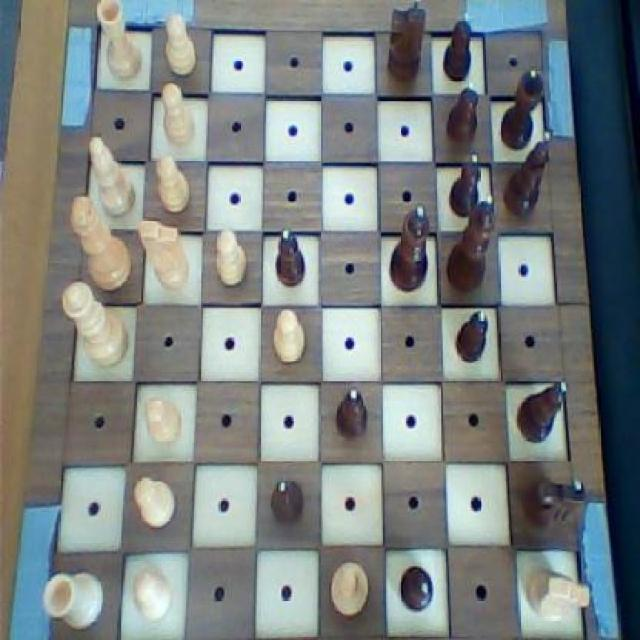bishop: (502, 129, 554, 222), (512, 375, 570, 451)
black-bishop: (443, 191, 499, 298)
black-king: (383, 0, 431, 88), (526, 476, 589, 536)
black-knight: (445, 148, 487, 220), (440, 8, 480, 83), (442, 78, 484, 142), (331, 383, 374, 444), (394, 557, 435, 620), (274, 222, 310, 292), (266, 475, 308, 530), (451, 308, 491, 364)
black-pawn: (386, 200, 432, 295)
black-queen: (497, 65, 549, 156)
black-rook: (84, 136, 138, 218), (325, 558, 376, 620)
white-bishop: (68, 194, 135, 294)
white-king: (136, 216, 192, 296), (523, 562, 592, 626)
white-knight: (151, 147, 201, 220), (131, 469, 179, 534), (155, 80, 198, 151), (126, 563, 176, 624), (268, 302, 309, 370), (143, 388, 186, 452), (162, 8, 198, 78), (214, 224, 249, 292)
white-pawn: (58, 275, 127, 370)
white-queen: (39, 564, 106, 636), (94, 0, 146, 83)
